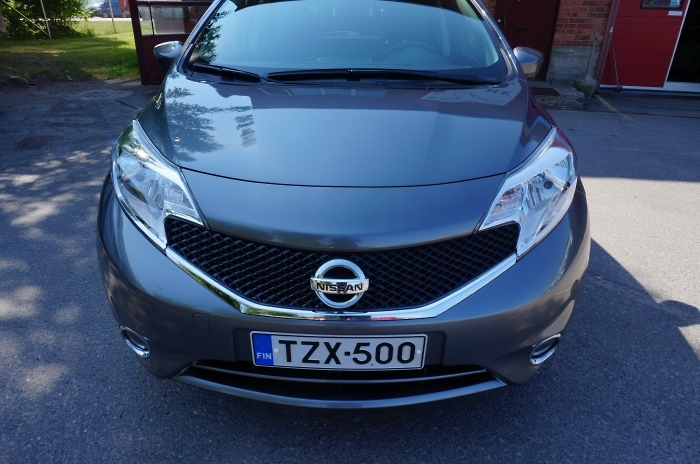license: (250, 337, 424, 373)
